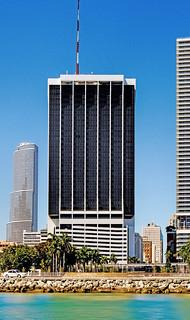building: (45, 71, 140, 266), (5, 140, 38, 246)
